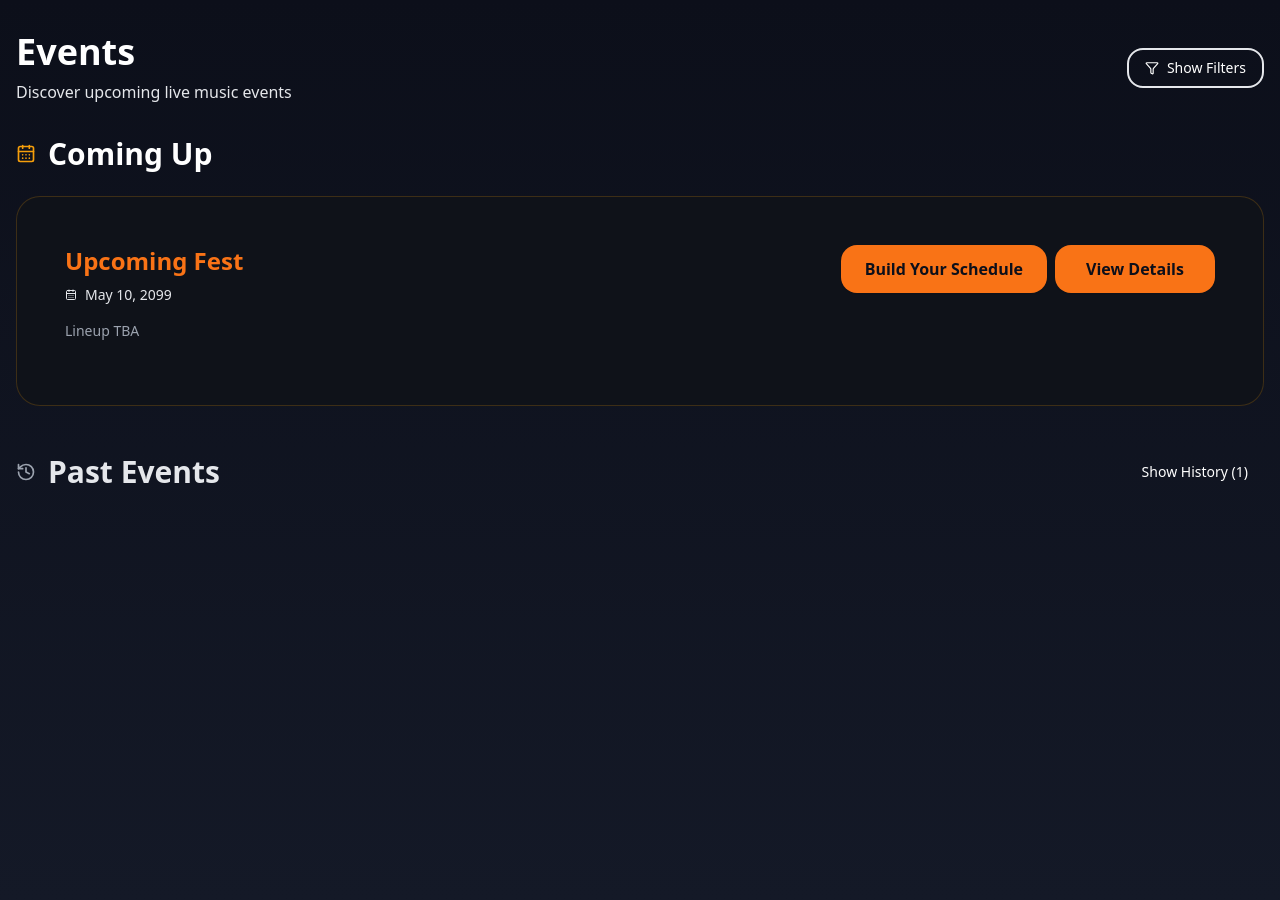
EventTimeline recap links › past event cards link to the recap; upcoming cards do not
Expected: the heading "Upcoming Fest" is shown, [65, 244, 243, 277]
Note: Past events sit behind the "Show History" toggle
Click the button "Show History (1)" at (1195, 472), box [1126, 454, 1264, 490]
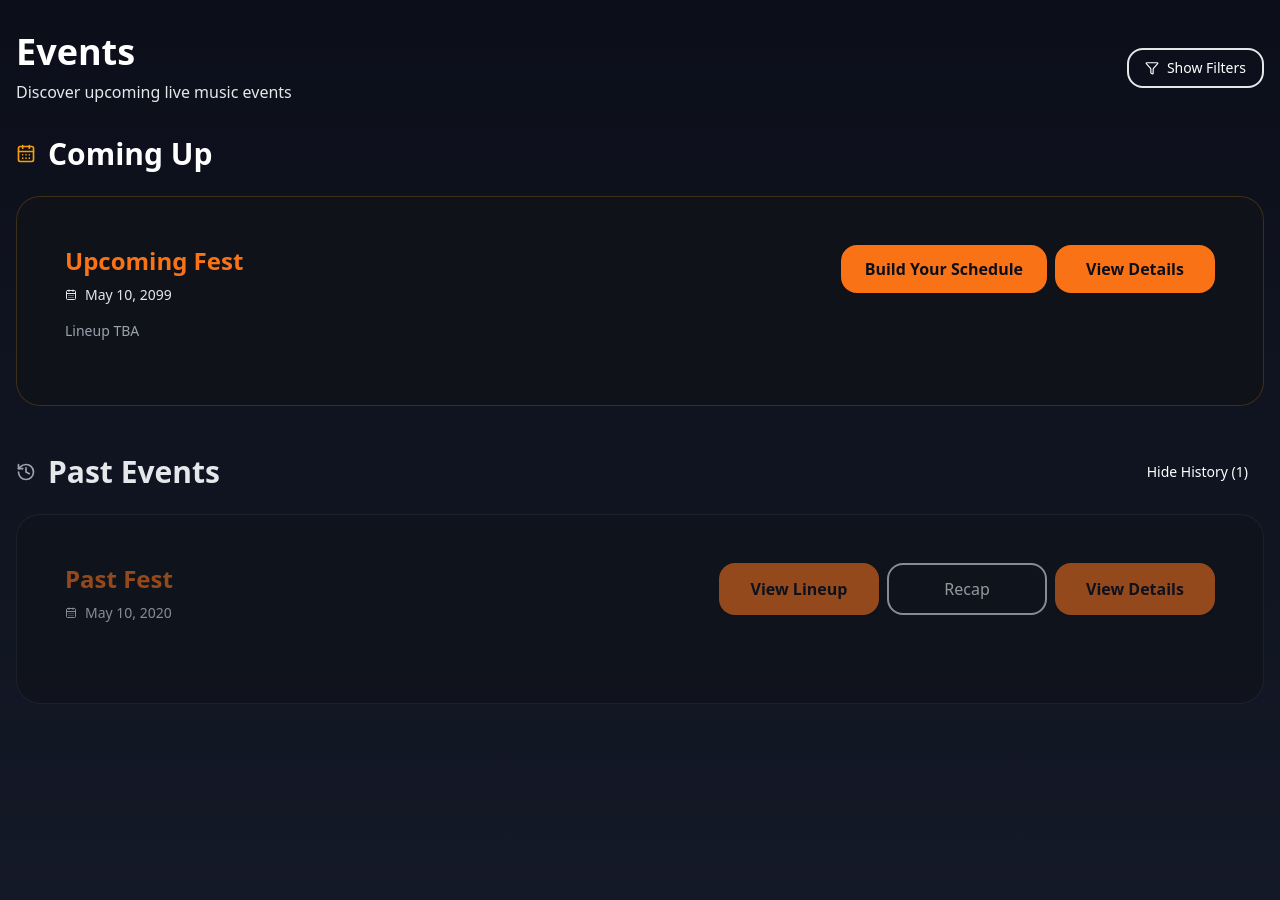
Result: the heading "Past Fest" is shown at [65, 562, 173, 595]
Result: the number of links "Recap" is 1 at [887, 563, 1047, 615]
